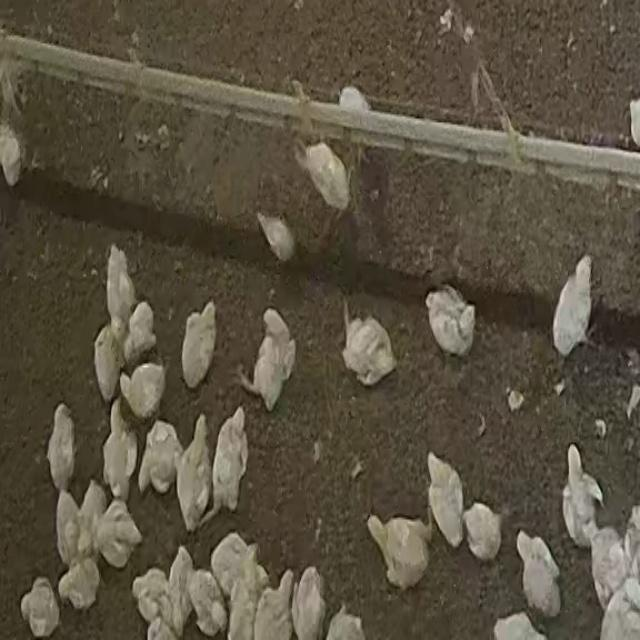chicken: (238, 306, 299, 407), (549, 252, 603, 360), (366, 512, 432, 590), (335, 311, 400, 385), (174, 414, 212, 530), (562, 444, 604, 547), (210, 409, 248, 521), (515, 530, 561, 620), (97, 243, 141, 334), (427, 286, 481, 357), (426, 453, 465, 550), (302, 138, 353, 212), (102, 401, 138, 502), (186, 555, 229, 637), (94, 496, 142, 568), (182, 300, 222, 384), (140, 419, 183, 496), (209, 532, 256, 602), (251, 567, 296, 640), (586, 525, 626, 607), (165, 544, 197, 639), (120, 360, 166, 420), (46, 402, 76, 491), (291, 566, 326, 638), (93, 322, 123, 405), (19, 577, 60, 636), (462, 502, 502, 562), (55, 487, 83, 569), (124, 301, 158, 368), (256, 212, 298, 266), (57, 564, 104, 606)
